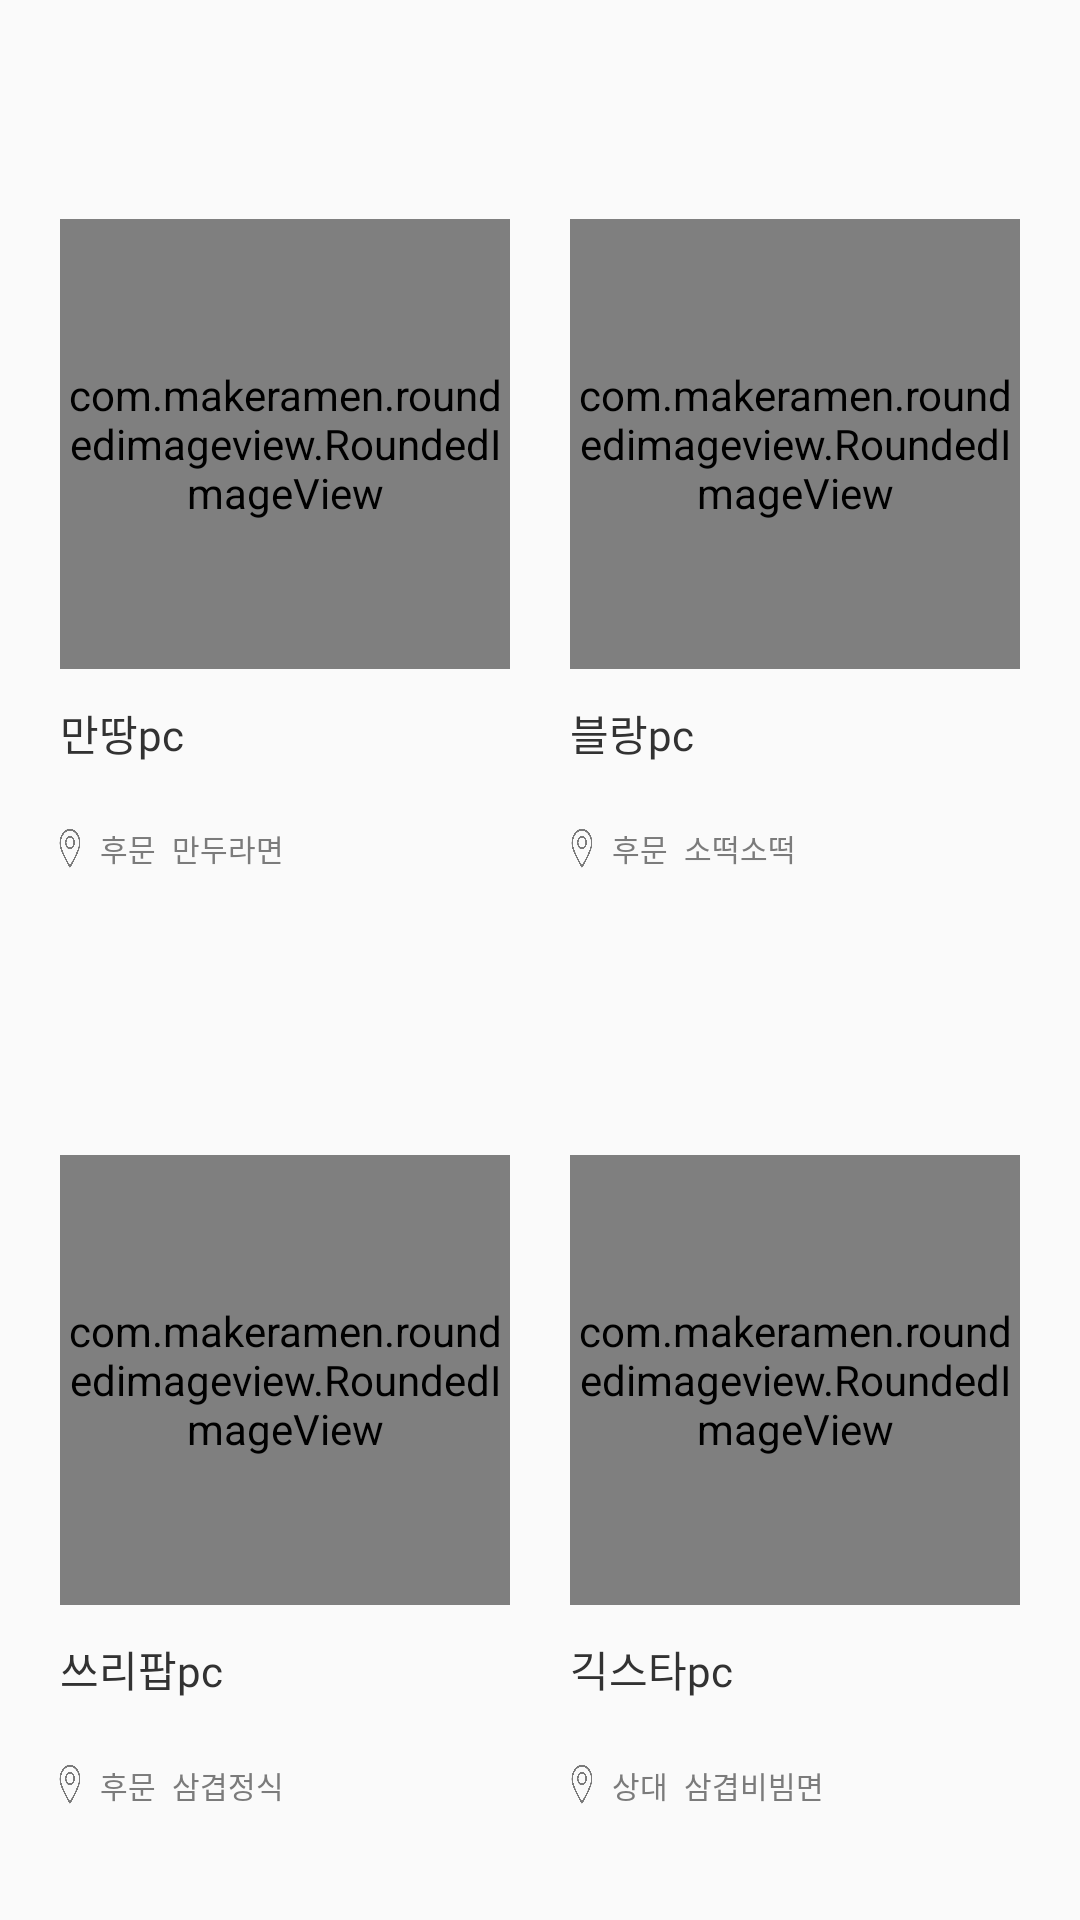

Point at icon controls on the screen. Image size 1080w x 1920h, points as [x,y].
location: [69,848], [581,848], [69,1784], [581,1784]
